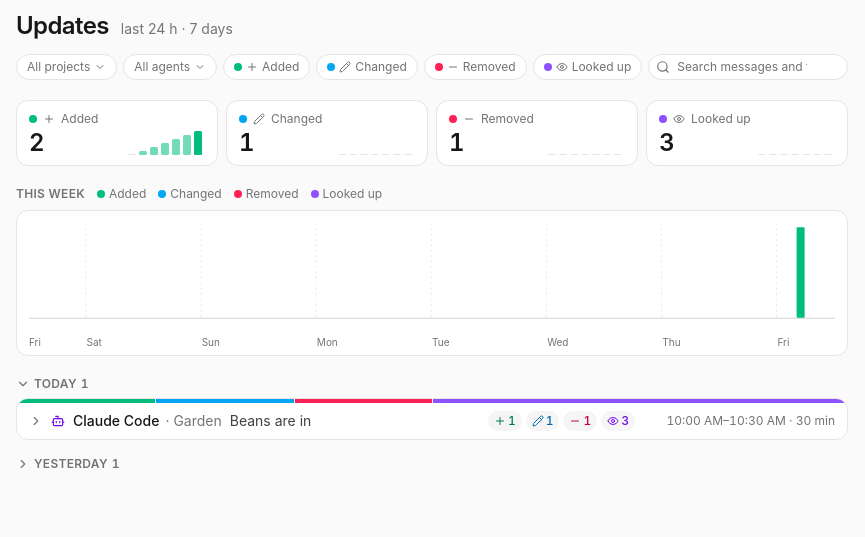
Test: the Updates page › filters by kind and by words
Expected: the button "Today 1" is shown, [16, 376, 89, 392]
Click the button "Yesterday 1". click: (68, 464)
box: [16, 456, 120, 472]
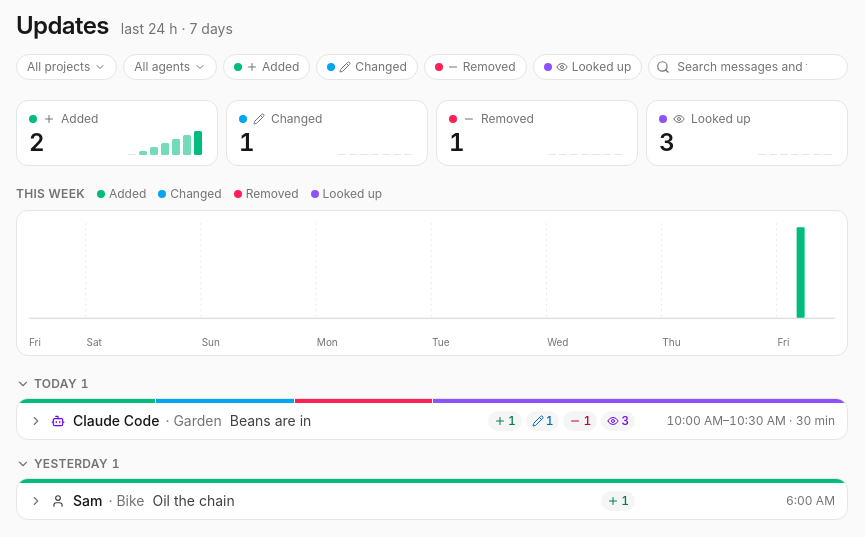
Expected: the list item "Sam · Bike Oil the chain 1 6:00 AM" is shown, [16, 478, 848, 520]
Click the button "Added". click: (267, 67)
box: [223, 54, 310, 80]
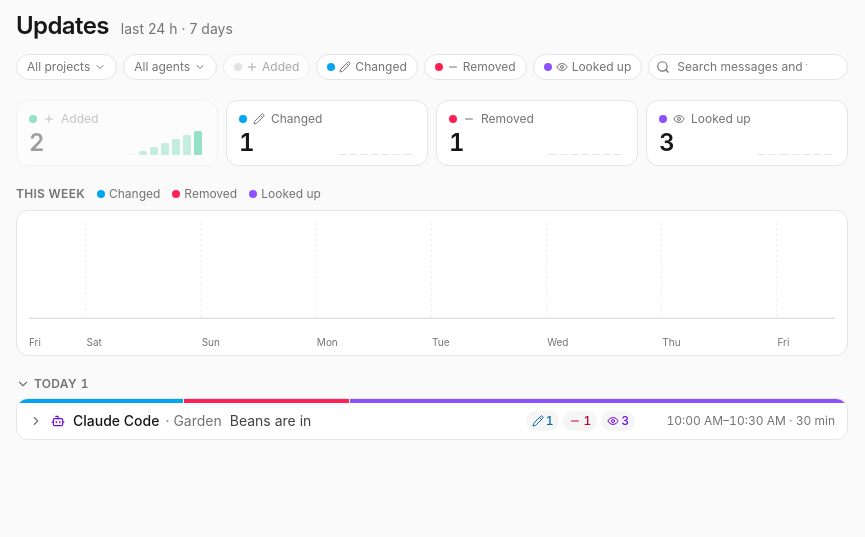
Click the button "Added". click: (267, 67)
box: [223, 54, 310, 80]
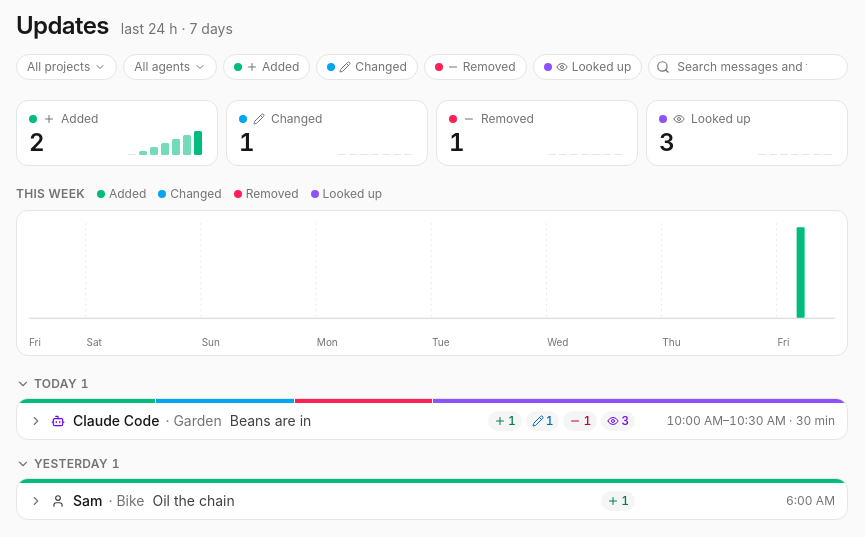
Type "chain" into the search field. click: (748, 67)
box: [648, 54, 848, 80]
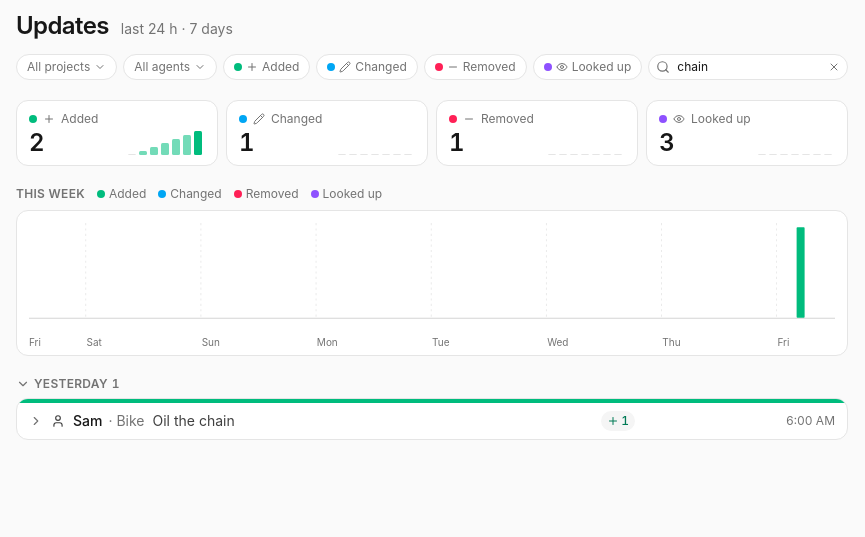
Expected: the list item "Sam · Bike Oil the chain 1 6:00 AM" is shown, [16, 398, 848, 440]
Replace the text in the search field with "nothing like it". click: (748, 67)
box: [648, 54, 848, 80]
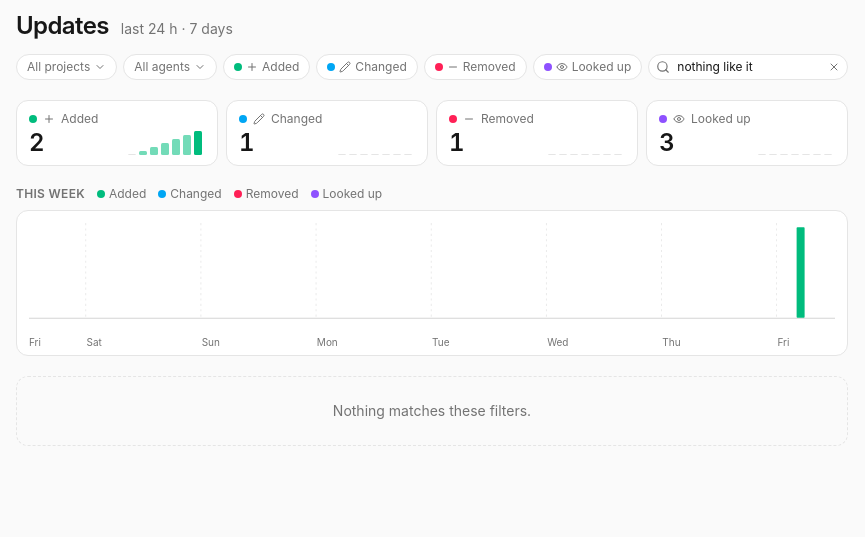
Expected: the text "Nothing matches these filters." is shown, [16, 376, 848, 446]
